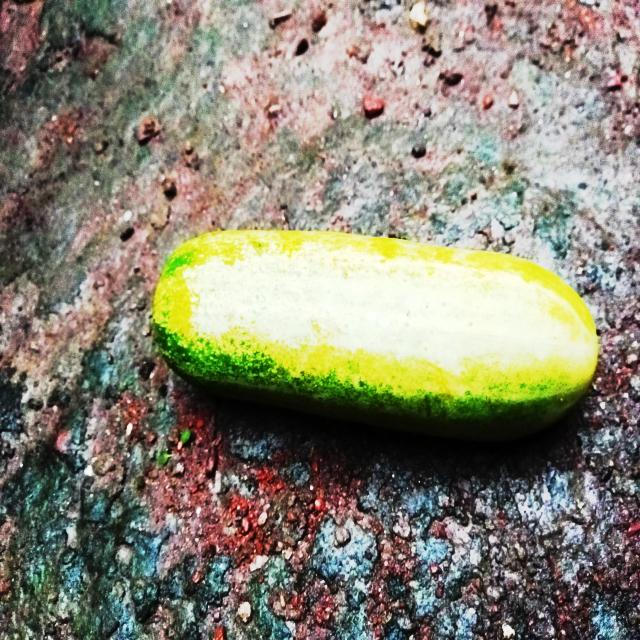Fresh-Cucumber: (151, 224, 601, 428)
